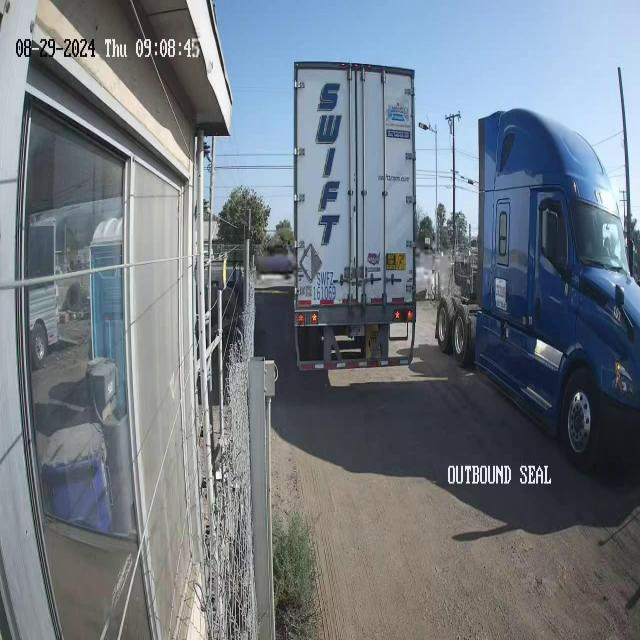TRUCK_IN: (435, 100, 640, 484)
TRUCK_OUT: (292, 54, 419, 376)
